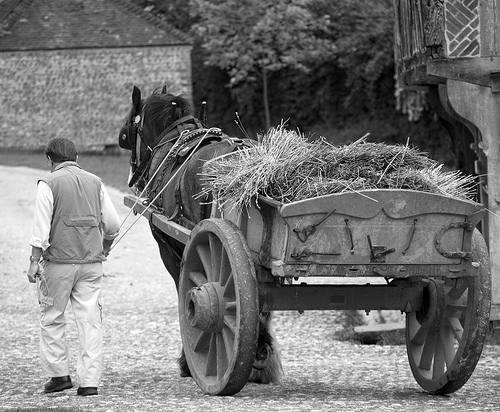horse: (115, 81, 287, 388)
